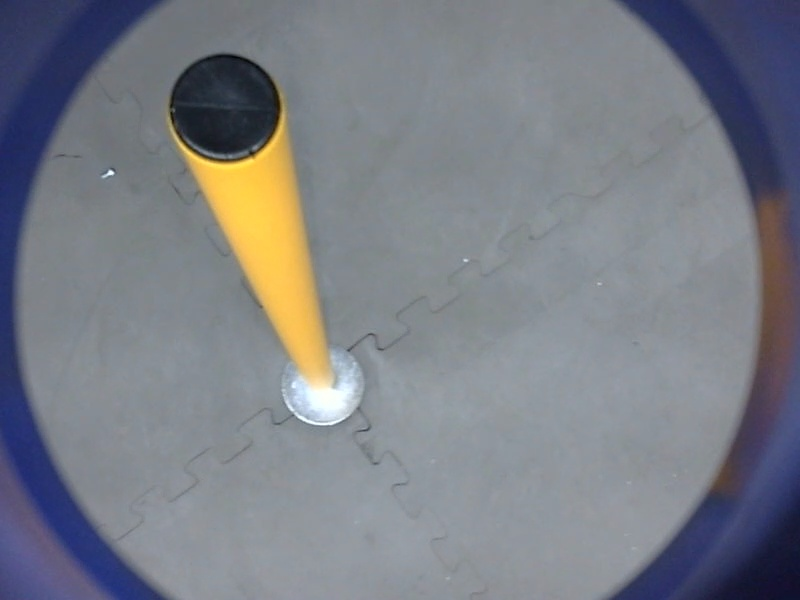tip: (159, 47, 292, 172)
